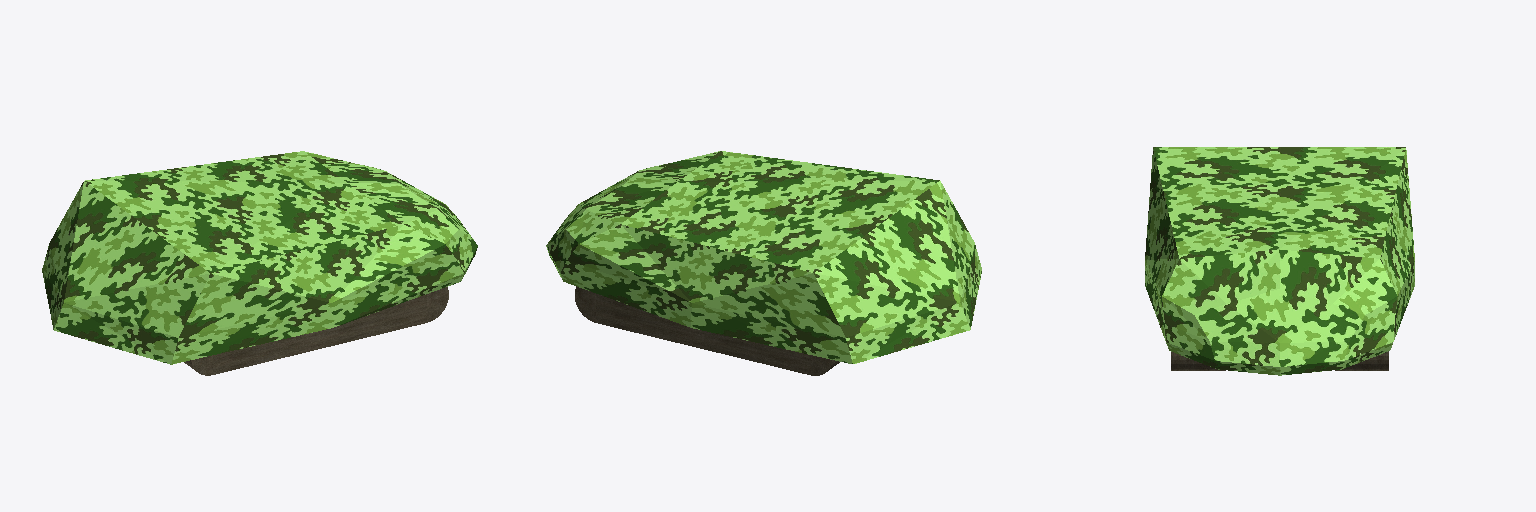
3 views of the same model, side by side, from view 1: azimuth 30°, elevation 25°; view 2: azimuth 150°, elevation 25°; view 3: azimuth 270°, elevation 25° (orthographic).
Visible parts, largest first — view 1: Null chassis, Null kette2; view 2: Null chassis, Null kette1; view 3: Null chassis.
Part boxes in pixels (x1,y1,x2,y2): Null chassis: (42,151,477,364); Null kette2: (184,287,448,375); Null chassis: (546,151,981,363); Null kette1: (575,286,839,375); Null chassis: (1145,147,1414,375).
Bounding box in the file's own units: 1.85 × 0.4854 × 1.07.
2 materials, 2 textured.